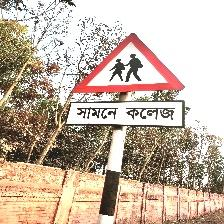College-in-front: (61, 23, 221, 161)
